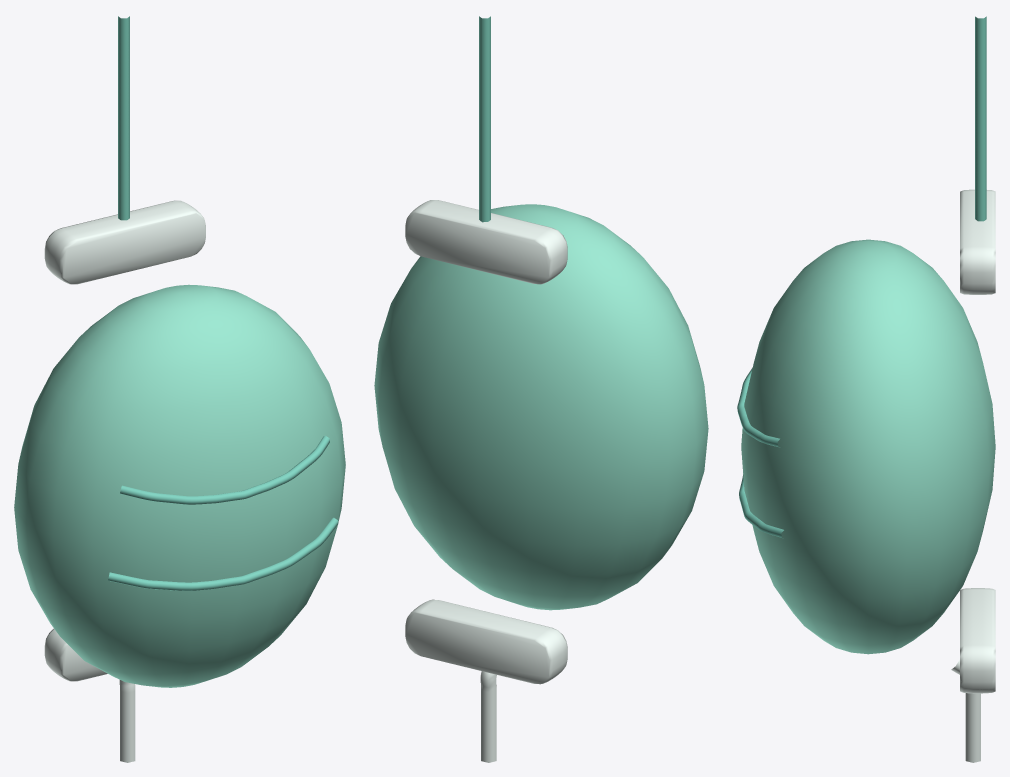
The model's file is decor_2_mint.glb.
3 renders of one model, left to right at view 1: azimuth 30°, elevation 25°; view 2: azimuth 150°, elevation 25°; view 3: azimuth 270°, elevation 25°, orthographic.
Visible parts, largest first — view 1: decor_2_mint; view 2: decor_2_mint; view 3: decor_2_mint.
Boxes of the visible parts, x1,y1,x2,y2 form: decor_2_mint: (14, 16, 345, 762); decor_2_mint: (374, 16, 708, 762); decor_2_mint: (737, 16, 995, 762).
Bounding box in the file's own units: 6 × 13.8 × 4.35.
